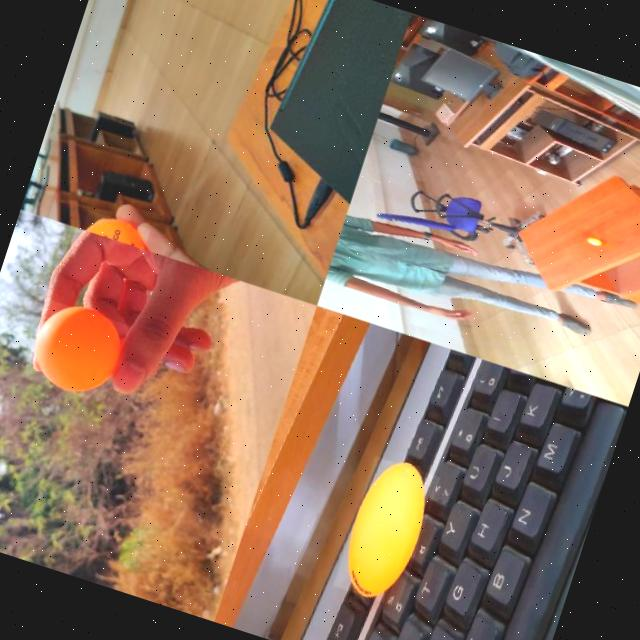ping-pong-ball: (333, 456, 440, 608), (20, 298, 130, 404), (80, 208, 152, 250), (586, 237, 603, 247)
